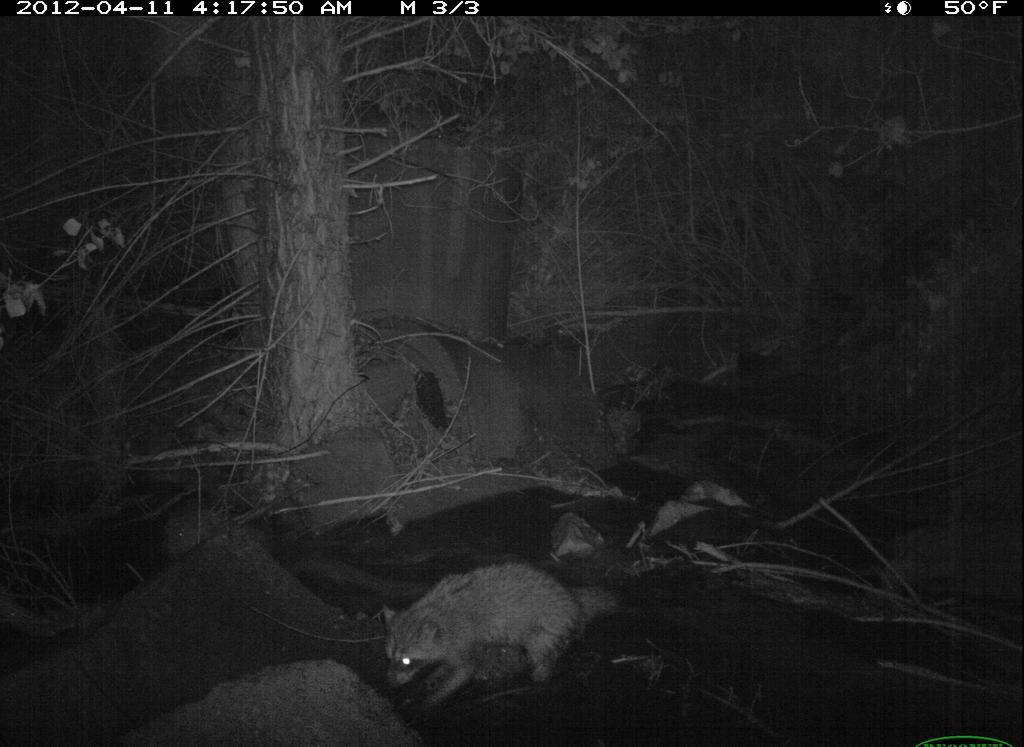raccoon: (372, 550, 628, 721)
